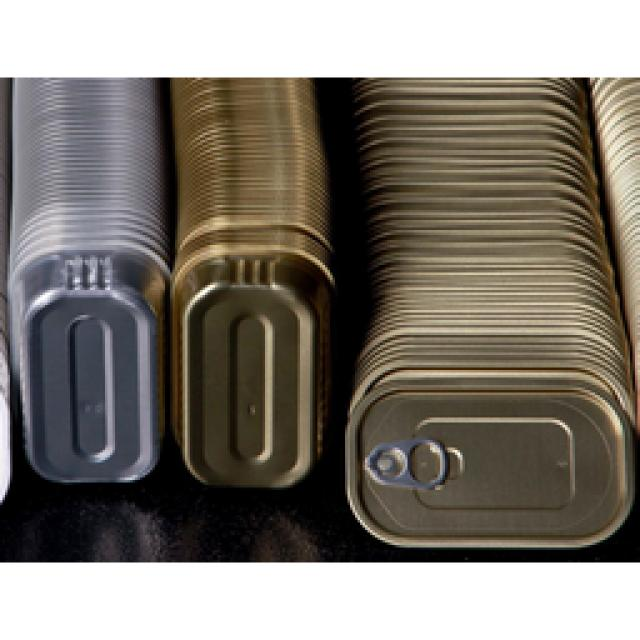alumunium: (0, 78, 332, 502), (345, 78, 638, 545)
